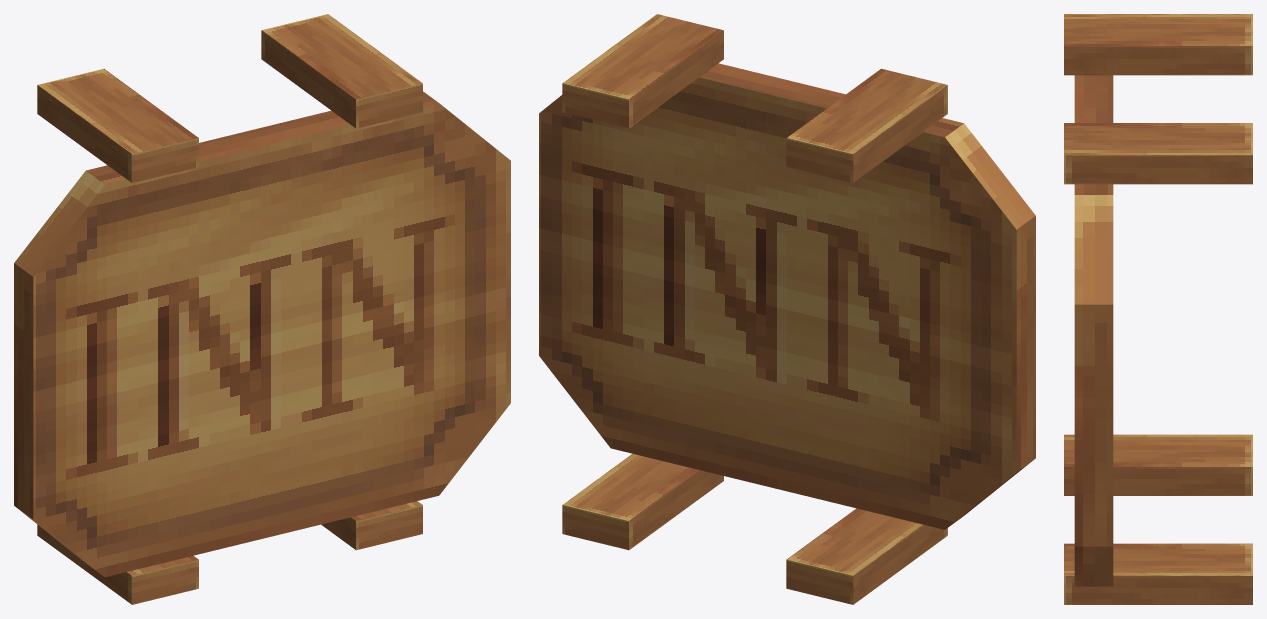
Rendered from Signboard - INN2.fbx.
3 renders of one model, left to right at view 1: azimuth 30°, elevation 25°; view 2: azimuth 150°, elevation 25°; view 3: azimuth 270°, elevation 25°, orthographic.
Visible parts, largest first — view 1: signboard_INN2; view 2: signboard_INN2; view 3: signboard_INN2.
Boxes of the visible parts, bbox=[...] form: signboard_INN2: bbox=[14, 14, 510, 604]; signboard_INN2: bbox=[539, 14, 1035, 604]; signboard_INN2: bbox=[1064, 14, 1252, 604].
Size of the model in its own units: 0.7155 by 0.6454 by 0.2458.
